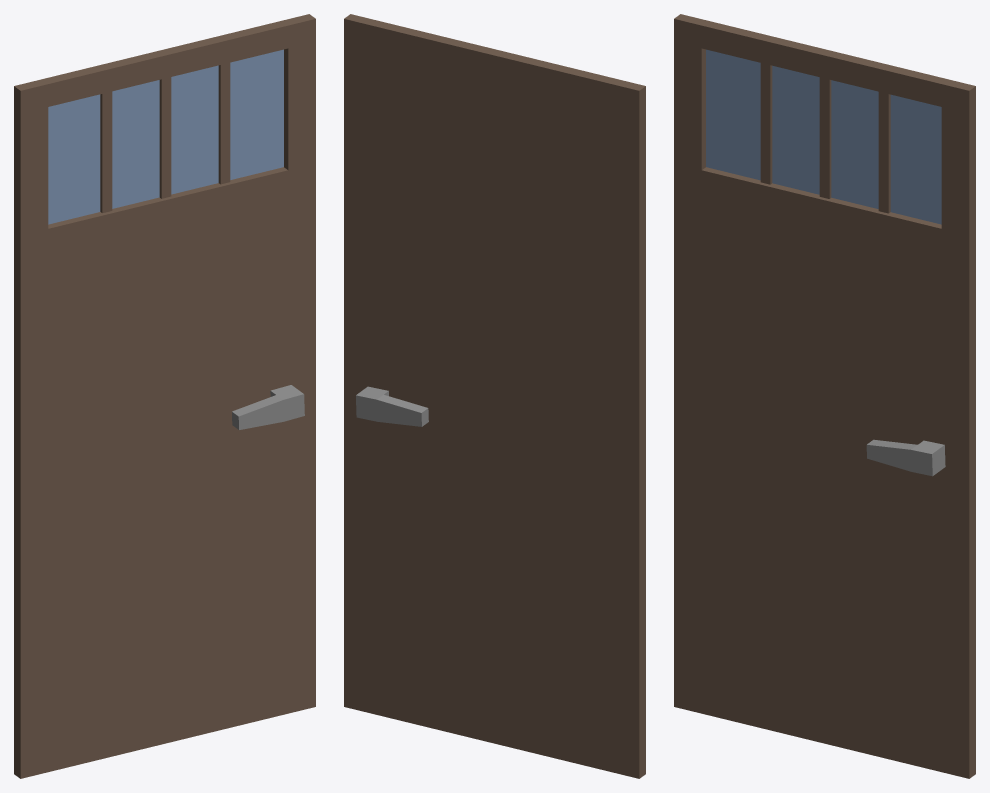
Rendered from House_04_Door01.fbx.
3 renders of one model, left to right at view 1: azimuth 30°, elevation 25°; view 2: azimuth 150°, elevation 25°; view 3: azimuth 330°, elevation 25°, orthographic.
Parts seen in each view (by area): view 1: House_04_Door01; view 2: House_04_Door01; view 3: House_04_Door01.
Part boxes in pixels (box(x1,y1,x2,y2)): House_04_Door01: box(14, 14, 315, 778); House_04_Door01: box(344, 14, 645, 778); House_04_Door01: box(674, 14, 975, 778).
Size of the model in its own units: 90 by 200 by 16.56.
